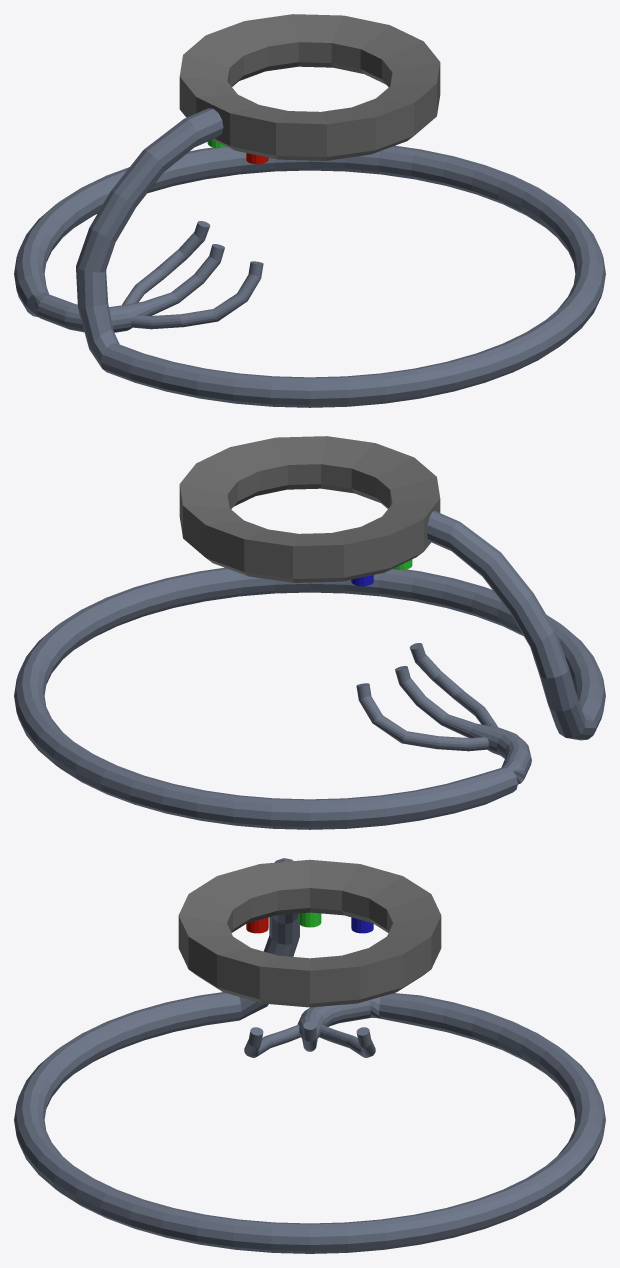
Rendered from Tubes.fbx.
3 views of the same model, one above another, from view 1: azimuth 30°, elevation 25°; view 2: azimuth 150°, elevation 25°; view 3: azimuth 270°, elevation 25° (orthographic).
Parts seen in each view (by area): view 1: Cylinder.006; view 2: Cylinder.006; view 3: Cylinder.006.
Boxes of the visible parts, x1,y1,x2,y2 form: Cylinder.006: (14, 14, 605, 407); Cylinder.006: (14, 436, 605, 829); Cylinder.006: (14, 858, 605, 1253).
Size of the model in its own units: 3494 by 1447 by 3551.
